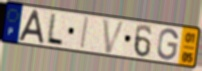6: (134, 23, 154, 59)
A: (16, 9, 45, 46)
G: (155, 28, 180, 62)
I: (79, 16, 91, 51)
L: (45, 12, 65, 47)
V: (101, 18, 128, 55)
